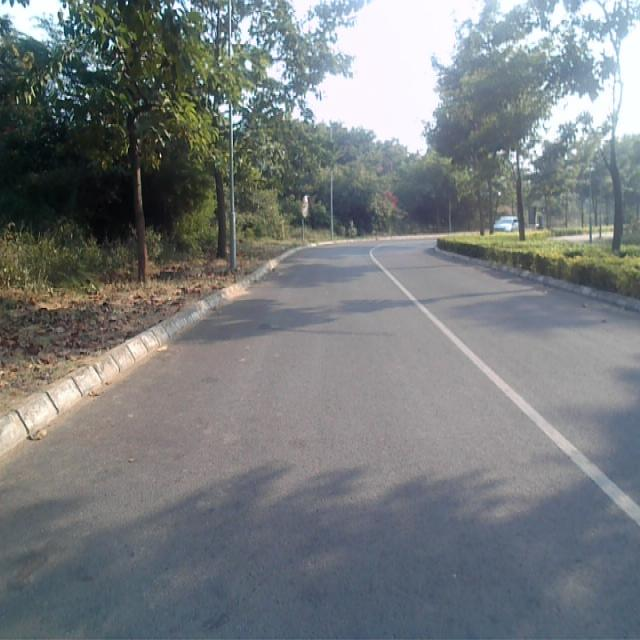lane: (0, 245, 640, 639)
